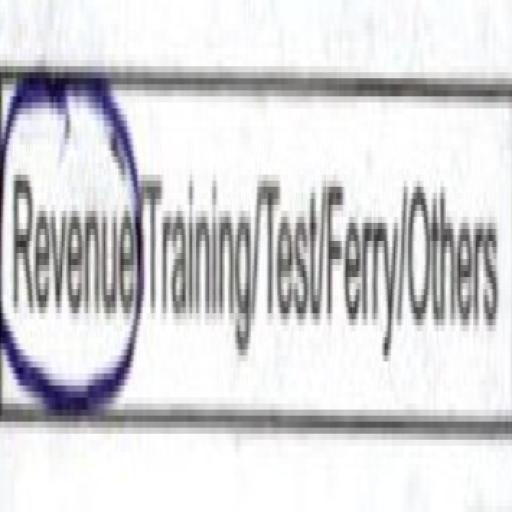check: (0, 14, 137, 451)
